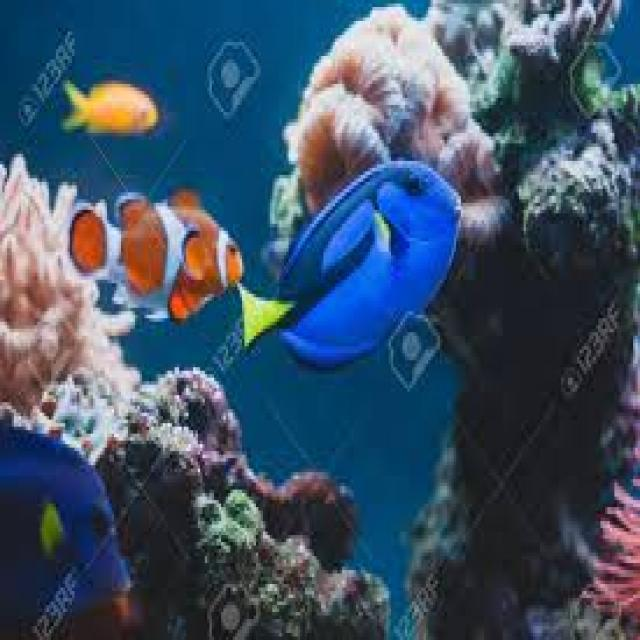ClownFish: (50, 184, 246, 324)
TangFish: (236, 158, 467, 374), (0, 422, 133, 616)
